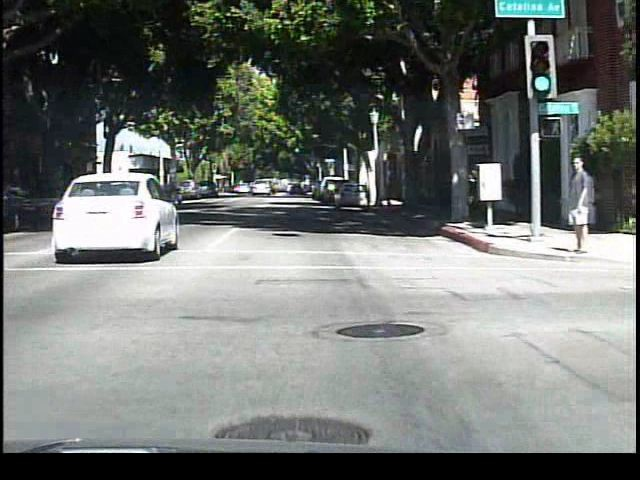person: (559, 150, 591, 258)
